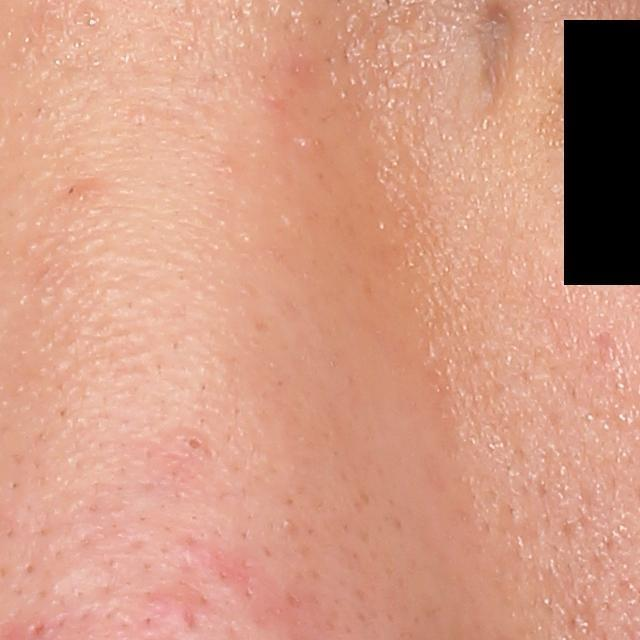comedo: (180, 434, 208, 458)
